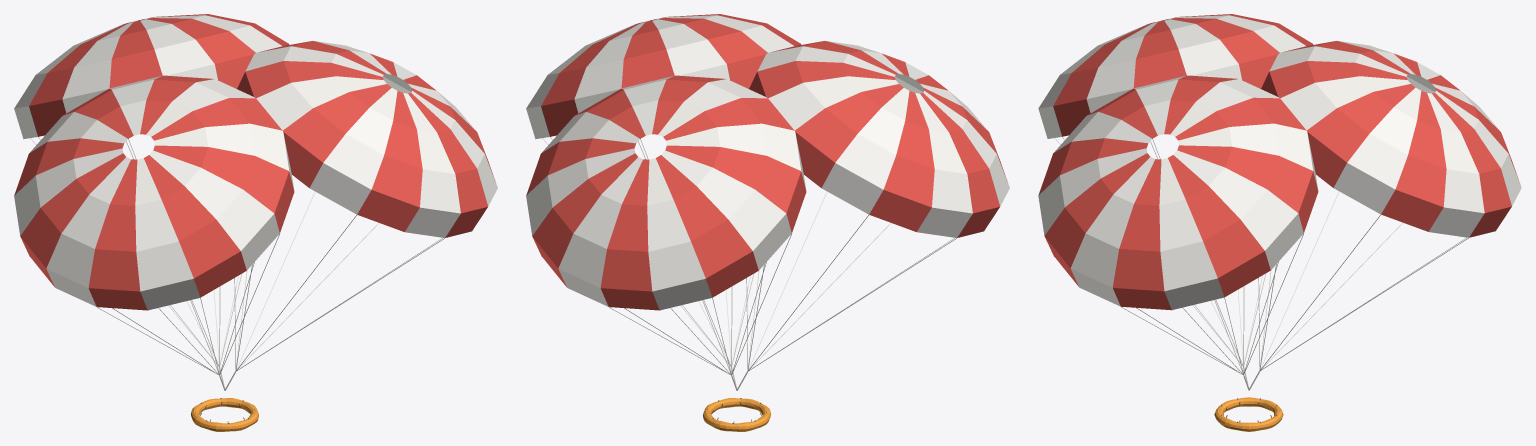
Rendered from cm-recovery.glb.
The picture shows the model from 3 angles, left to right: view 1: azimuth 30°, elevation 25°; view 2: azimuth 150°, elevation 25°; view 3: azimuth 270°, elevation 25°; orthographic projection.
Parts seen in each view (by area): view 1: chute-2-geo, chute-3-geo, chute-1-geo, flotation-collar-geo; view 2: chute-1-geo, chute-2-geo, chute-3-geo, flotation-collar-geo; view 3: chute-3-geo, chute-1-geo, chute-2-geo, flotation-collar-geo.
Boxes of the visible parts, x1=… form: chute-2-geo: x1=14, y1=75, x2=294, y2=390; chute-3-geo: x1=225, y1=41, x2=497, y2=390; chute-1-geo: x1=14, y1=14, x2=289, y2=388; flotation-collar-geo: x1=191, y1=398, x2=258, y2=431; chute-1-geo: x1=526, y1=75, x2=806, y2=390; chute-2-geo: x1=737, y1=41, x2=1009, y2=390; chute-3-geo: x1=526, y1=14, x2=801, y2=388; flotation-collar-geo: x1=703, y1=398, x2=770, y2=431; chute-3-geo: x1=1038, y1=75, x2=1318, y2=390; chute-1-geo: x1=1249, y1=41, x2=1521, y2=390; chute-2-geo: x1=1038, y1=14, x2=1313, y2=388; flotation-collar-geo: x1=1214, y1=397, x2=1283, y2=431.
Bounding box in the file's own units: 42.7 × 33.07 × 40.48.
